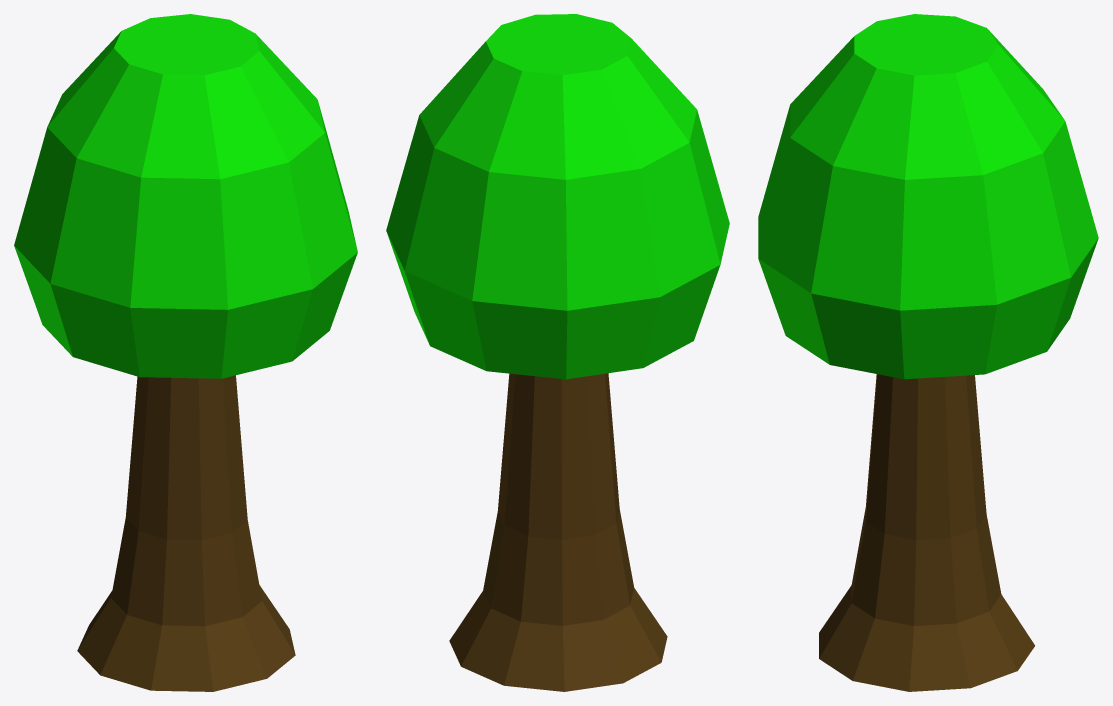
Rendered from tree.fbx.
3 renders of one model, left to right at view 1: azimuth 30°, elevation 25°; view 2: azimuth 150°, elevation 25°; view 3: azimuth 270°, elevation 25°, orthographic.
Visible parts, largest first — view 1: Cylinder; view 2: Cylinder; view 3: Cylinder.
Part boxes in pixels (box(x1,y1,x2,y2)): Cylinder: box(14, 14, 357, 691); Cylinder: box(386, 14, 729, 691); Cylinder: box(758, 14, 1098, 691).
Size of the model in its own units: 558 by 1076 by 552.
